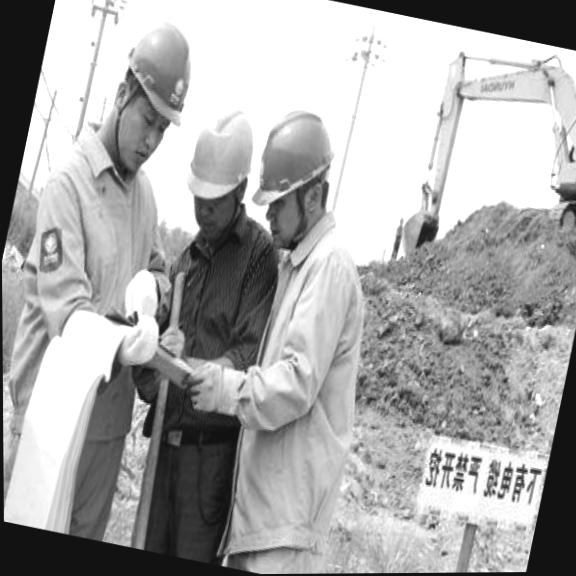no_safety_vest: (1, 135, 193, 456), (216, 206, 398, 527), (128, 199, 290, 459)
